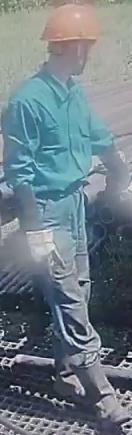gloves: (15, 221, 69, 287), (106, 169, 132, 219)
helmet: (38, 1, 101, 45)
vest: (1, 78, 104, 209)
